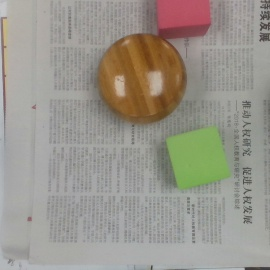chess: (92, 33, 190, 127)
